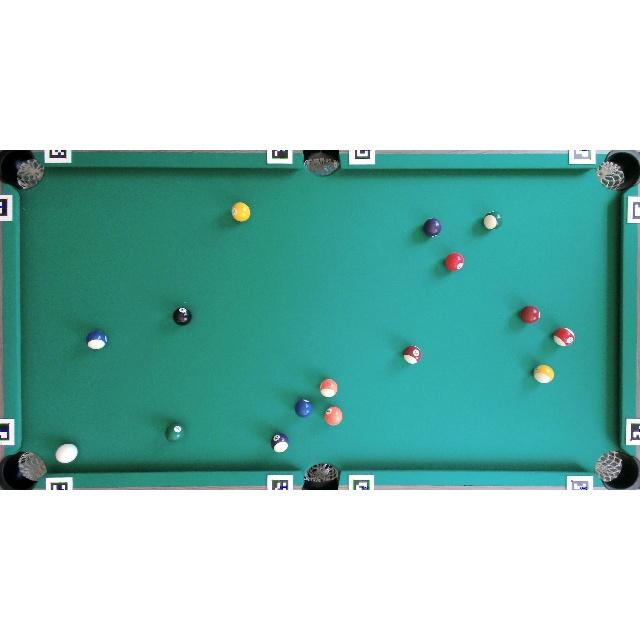cue ball: (55, 444, 78, 464)
other: (164, 422, 186, 443), (553, 327, 575, 347), (86, 330, 107, 350), (520, 305, 542, 324), (534, 364, 554, 384), (172, 306, 192, 326), (444, 252, 464, 271), (231, 202, 250, 222), (402, 345, 422, 364), (422, 218, 442, 237), (295, 398, 313, 418), (324, 406, 342, 426), (483, 211, 501, 230), (320, 379, 338, 397), (272, 433, 288, 452)
